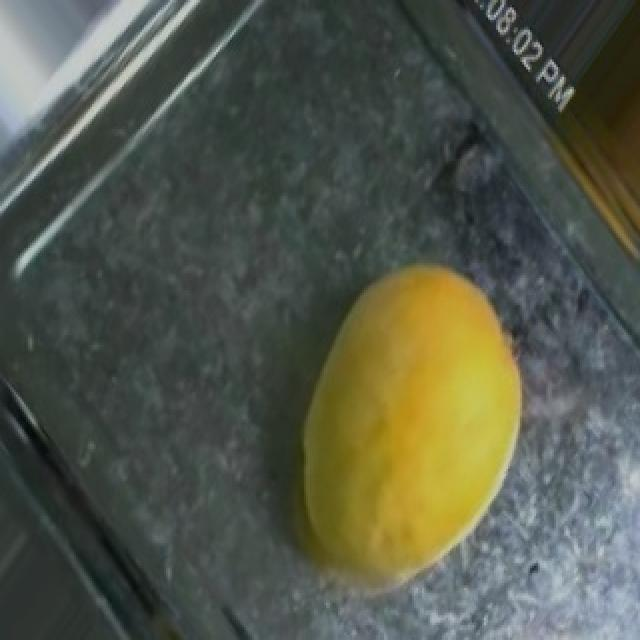fruit: (260, 221, 584, 615), (524, 3, 640, 295)
